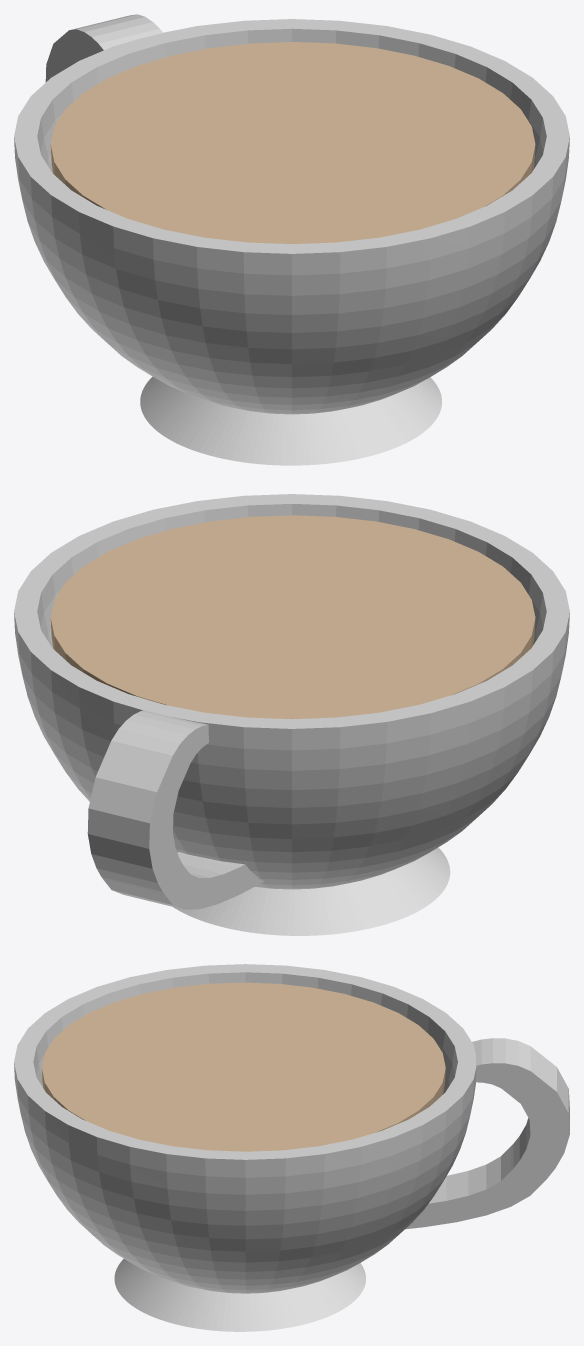
Rendered from kruze_p.glb.
3 views of the same model, one above another, from view 1: azimuth 30°, elevation 25°; view 2: azimuth 150°, elevation 25°; view 3: azimuth 270°, elevation 25° (orthographic). The views are drawn at different scales.
Parts seen in each view (by area): view 1: obj_0; view 2: obj_0; view 3: obj_0.
Part boxes in pixels (bbox=[...]): obj_0: bbox=[14, 14, 569, 465]; obj_0: bbox=[14, 494, 569, 935]; obj_0: bbox=[14, 964, 569, 1331].
Bounding box in the file's own units: 50 × 26.33 × 60.
